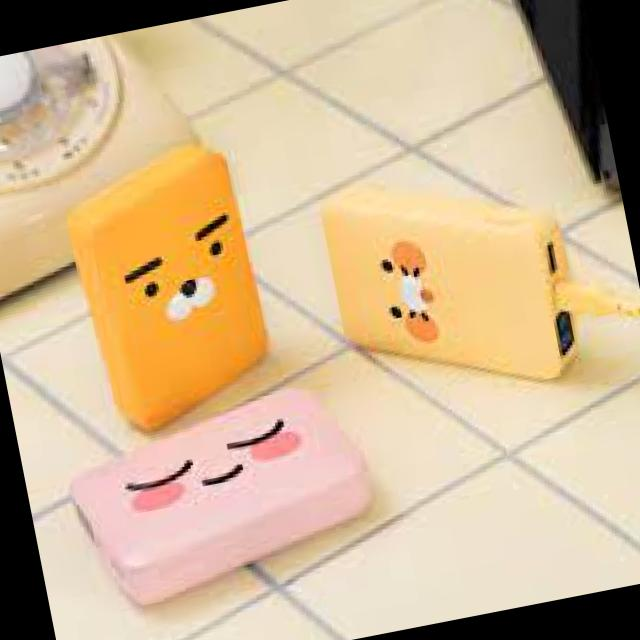portable-charger: (58, 373, 394, 623), (312, 149, 588, 420), (50, 138, 282, 444)
